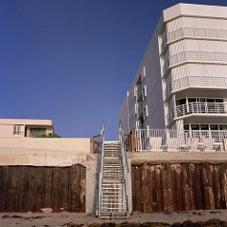Stair Up: (100, 141, 127, 217)
